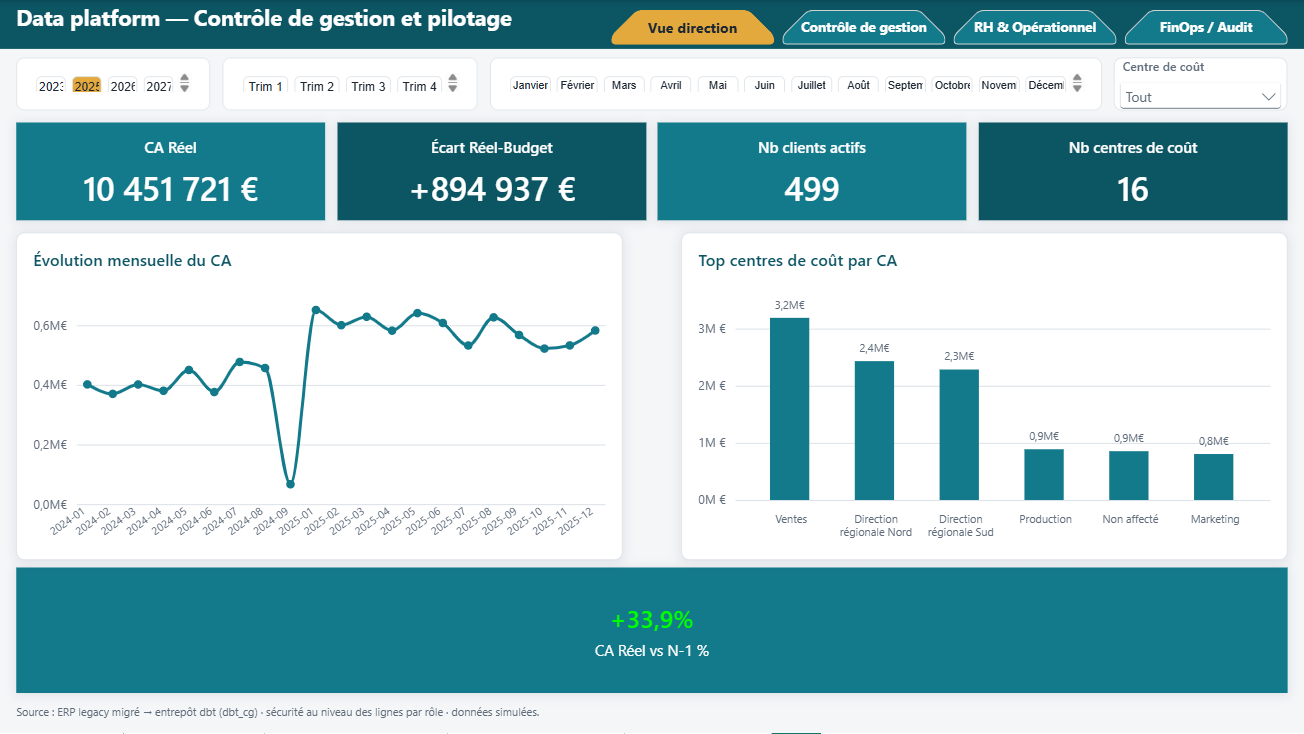

This screenshot's page, from the dashboard's own definition file:
{"tool":"powerbi","page":{"name":"Vue direction","canvas":[1280,720],"ordinal":0},"visuals":[{"type":"shape","box":[0,0,1280,48],"z":0},{"type":"textbox","box":[16,2,570,46],"z":100},{"type":"pageNavigator","box":[600,10,664,34],"z":200},{"type":"card","title":"CA Réel","fields":{"Values":["Fct Ventes Réel.CA Réel"]},"box":[16,120,303,96],"z":700},{"type":"card","title":"Écart Réel-Budget","fields":{"Values":["Fct Écarts Réel-Budget.Écart Réel-Budget"]},"box":[331,120,303,96],"z":800},{"type":"card","title":"Nb clients actifs","fields":{"Values":["Fct Ventes Réel.Nb clients actifs"]},"box":[646,120,303,96],"z":900},{"type":"card","title":"Nb centres de coût","fields":{"Values":["Dim Centre de coût.Nb centres de coût"]},"box":[961,120,303,96],"z":1000},{"type":"ChicletSlicer1448559807354","fields":{"Category":["Dim Date.Calendrier.Année"]},"box":[16,56,190.3,52],"z":1003},{"type":"ChicletSlicer1448559807354","fields":{"Category":["Dim Date.Calendrier.Trimestre"]},"box":[218.3,56,250.4,52],"z":1004},{"type":"ChicletSlicer1448559807354","fields":{"Category":["Dim Date.Calendrier.Mois"]},"box":[480.7,56,601,52],"z":1005},{"type":"slicer","fields":{"Values":["Dim Centre de coût.libelle"]},"box":[1093.7,56,170.3,52],"z":1006},{"type":"textbox","box":[16,688,1248,30],"z":1400},{"type":"card","fields":{"Values":["Fct Ventes Réel.CA Réel vs N-1 %"]},"box":[16,556.9,1248,123.1],"z":5011},{"type":"lineChart","title":"Évolution mensuelle du CA","fields":{"Category":["Dim Date.annee_mois"],"Y":["Fct Ventes Réel.CA Réel"]},"box":[16,228,595.5,321.4],"z":5012},{"type":"clusteredColumnChart","title":"Top centres de coût par CA","fields":{"Category":["Dim Centre de coût.libelle"],"Y":["Fct Ventes Réel.CA Réel"]},"box":[668.5,228,595.5,321.4],"z":5013}]}

Visuals, with their boxes in screenshot pixels (x1, y1, x2, y2), scaled from the page's 1280x720 canvas onto the 1304x734 screenshot:
shape: box=[0, 0, 1303, 49]
textbox: box=[16, 2, 597, 49]
pageNavigator: box=[611, 10, 1288, 45]
"CA Réel" card: box=[16, 122, 325, 220]
"Écart Réel-Budget" card: box=[337, 122, 646, 220]
"Nb clients actifs" card: box=[658, 122, 967, 220]
"Nb centres de coût" card: box=[979, 122, 1288, 220]
ChicletSlicer1448559807354 - Dim Date.Calendrier.Année: box=[16, 57, 210, 110]
ChicletSlicer1448559807354 - Dim Date.Calendrier.Trimestre: box=[222, 57, 477, 110]
ChicletSlicer1448559807354 - Dim Date.Calendrier.Mois: box=[490, 57, 1102, 110]
slicer - Dim Centre de coût.libelle: box=[1114, 57, 1288, 110]
textbox: box=[16, 701, 1288, 732]
card - Fct Ventes Réel.CA Réel vs N-1 %: box=[16, 568, 1288, 693]
"Évolution mensuelle du CA" lineChart: box=[16, 232, 623, 560]
"Top centres de coût par CA" clusteredColumnChart: box=[681, 232, 1288, 560]
